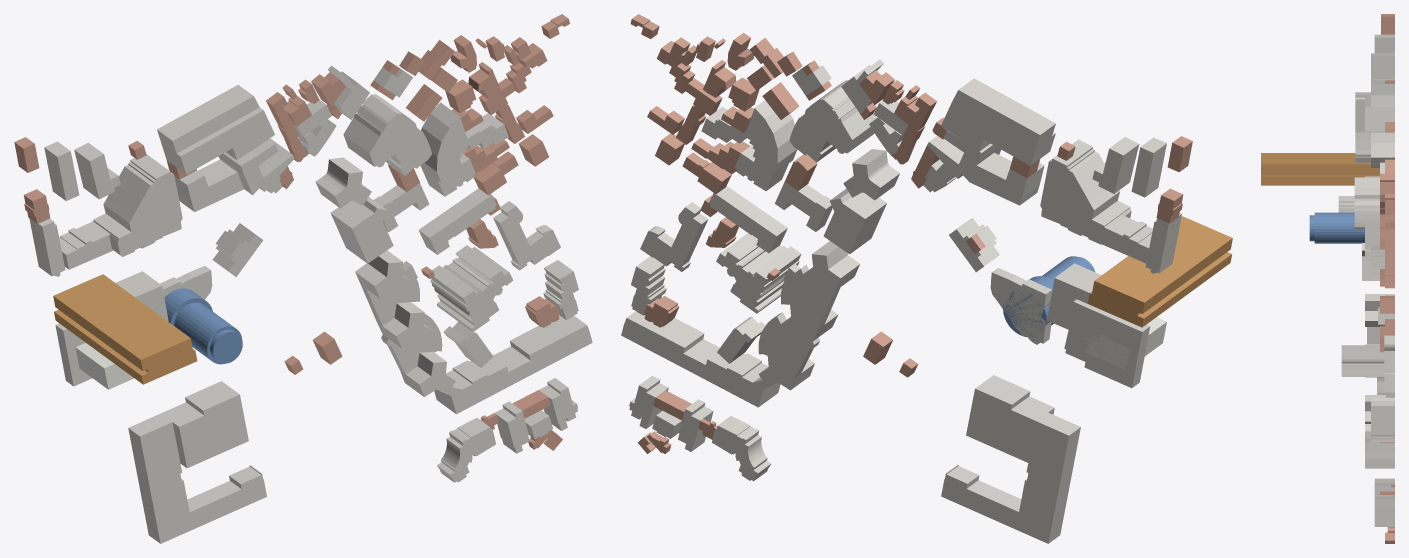
Rendered from center_tirane.obj.
3 views of the same model, side by side, from view 1: azimuth 30°, elevation 25°; view 2: azimuth 150°, elevation 25°; view 3: azimuth 270°, elevation 25° (orthographic). The views are drawn at different scales.
Bounding box in the file's own units: 491 × 368 × 134.
